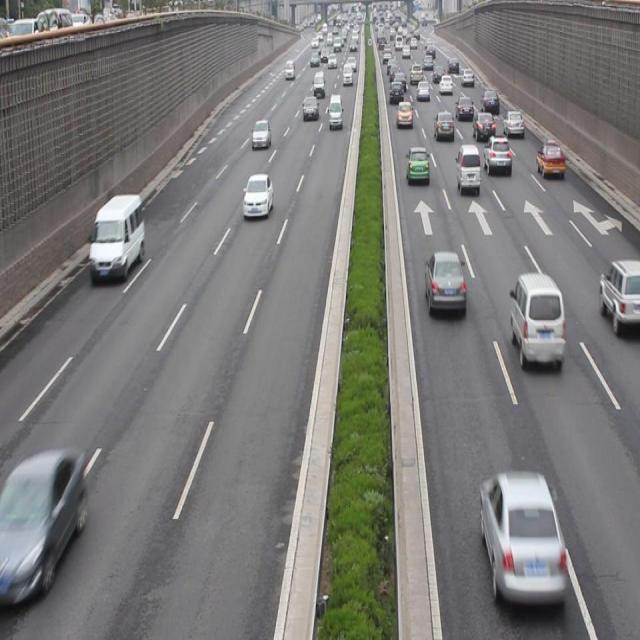car: (1, 453, 85, 589), (480, 471, 565, 603), (598, 256, 640, 329), (424, 251, 465, 317), (241, 173, 273, 220), (482, 136, 509, 178), (534, 141, 562, 179), (404, 147, 428, 186), (432, 111, 454, 142), (472, 110, 493, 142), (250, 118, 270, 147), (502, 111, 523, 138)
truck: (508, 273, 563, 372), (90, 193, 145, 281), (455, 144, 480, 196)
